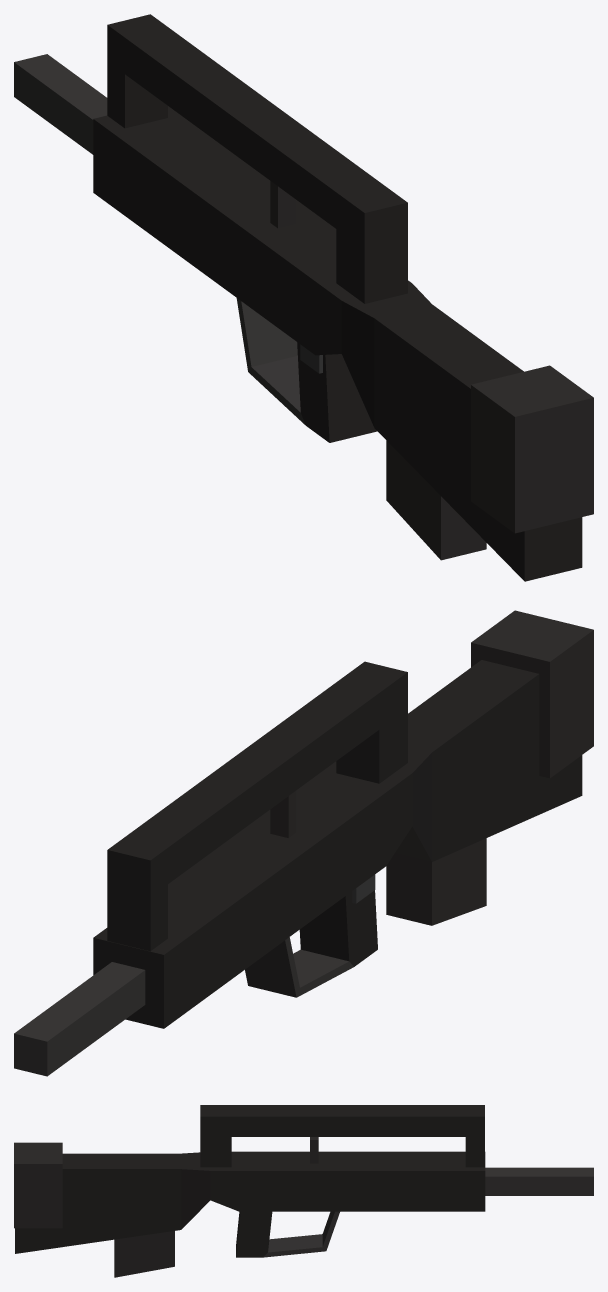
The model's file is AutoRifleFrench.FBX.
3 views of the same model, one above another, from view 1: azimuth 30°, elevation 25°; view 2: azimuth 150°, elevation 25°; view 3: azimuth 270°, elevation 25° (orthographic). The views are drawn at different scales.
Parts seen in each view (by area): view 1: AutoRifleFrench, AutoRifleFrenchmag; view 2: AutoRifleFrench, AutoRifleFrenchmag; view 3: AutoRifleFrench, AutoRifleFrenchmag.
Boxes of the visible parts, left/top/right/bottom form: AutoRifleFrench: left=14, top=14, right=593, bottom=581; AutoRifleFrenchmag: left=386, top=440, right=486, bottom=560; AutoRifleFrench: left=14, top=610, right=593, bottom=1076; AutoRifleFrenchmag: left=386, top=838, right=486, bottom=925; AutoRifleFrench: left=14, top=1105, right=593, bottom=1257; AutoRifleFrenchmag: left=114, top=1231, right=174, bottom=1277.
Size of the model in its own units: 16.78 by 193 by 58.87.
